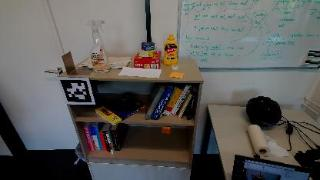book-spine: (150, 86, 173, 122), (113, 104, 147, 126), (145, 87, 165, 120), (172, 84, 193, 115), (170, 85, 189, 116), (163, 88, 183, 117), (159, 86, 177, 117), (178, 94, 192, 119), (187, 91, 197, 121), (84, 126, 94, 152), (94, 124, 103, 151), (90, 125, 100, 149), (102, 130, 111, 152), (105, 130, 113, 154), (111, 129, 119, 152), (99, 132, 107, 151)
